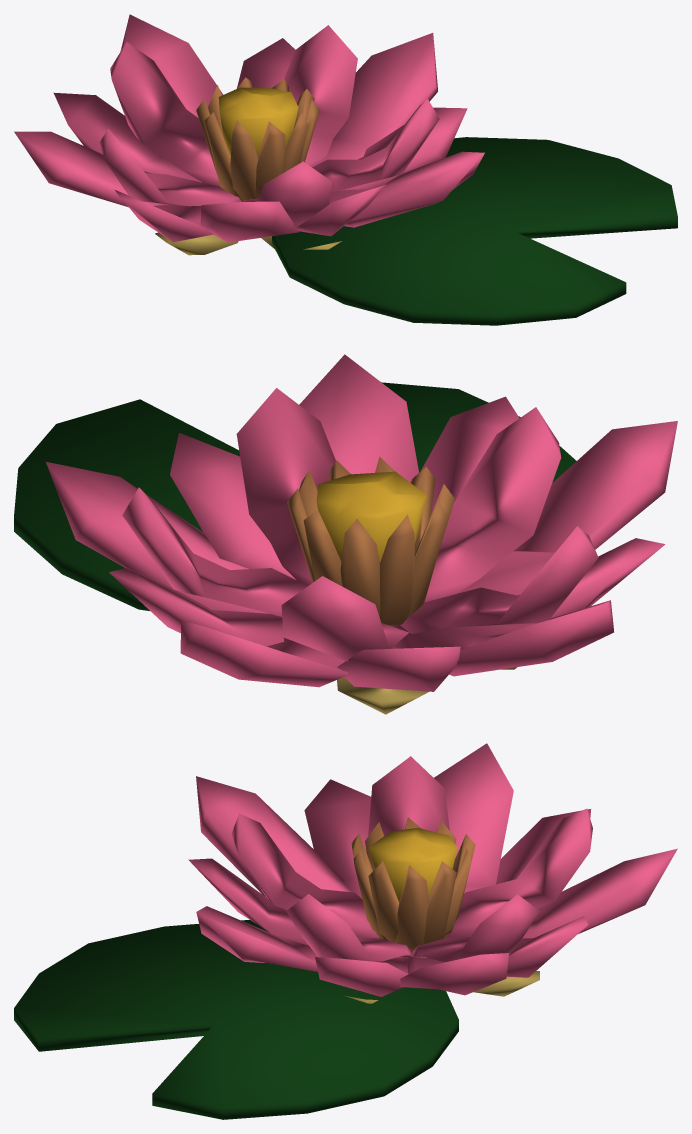
The model's file is LotusAberto.fbx.
The picture shows the model from 3 angles, top to bottom: view 1: azimuth 30°, elevation 25°; view 2: azimuth 150°, elevation 25°; view 3: azimuth 270°, elevation 25°; orthographic projection. The views are drawn at different scales.
Parts seen in each view (by area): view 1: LotusAberta_LOD0; view 2: LotusAberta_LOD0; view 3: LotusAberta_LOD0.
Part boxes in pixels (left/top/right/bottom): LotusAberta_LOD0: left=14, top=14, right=677, bottom=325; LotusAberta_LOD0: left=14, top=354, right=677, bottom=714; LotusAberta_LOD0: left=14, top=743, right=677, bottom=1119.
Size of what is drawn, in the model's own units: 102 by 23.85 by 106.
